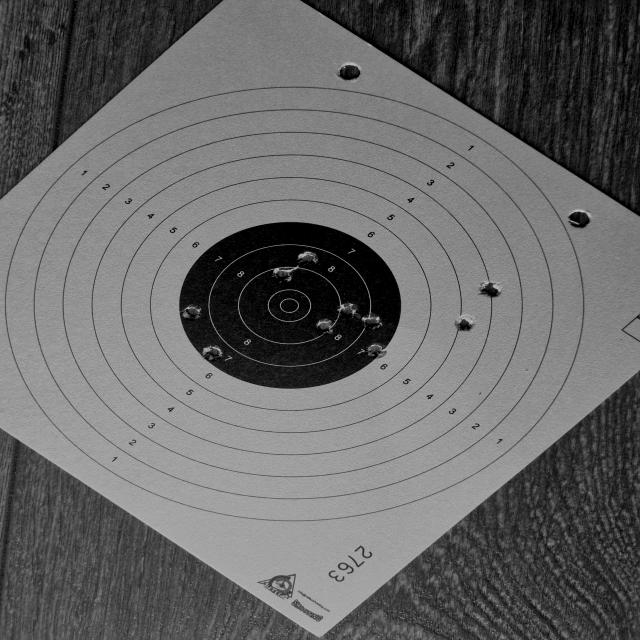4: (478, 282, 502, 298)
5: (455, 317, 474, 332)
7: (202, 346, 224, 360), (368, 344, 387, 358), (182, 307, 202, 320)
8: (298, 251, 318, 268), (361, 316, 383, 331)
9: (272, 265, 298, 282), (337, 303, 357, 320), (316, 319, 334, 334)
Target: (6, 85, 585, 522)
black_contour: (180, 223, 407, 389)
